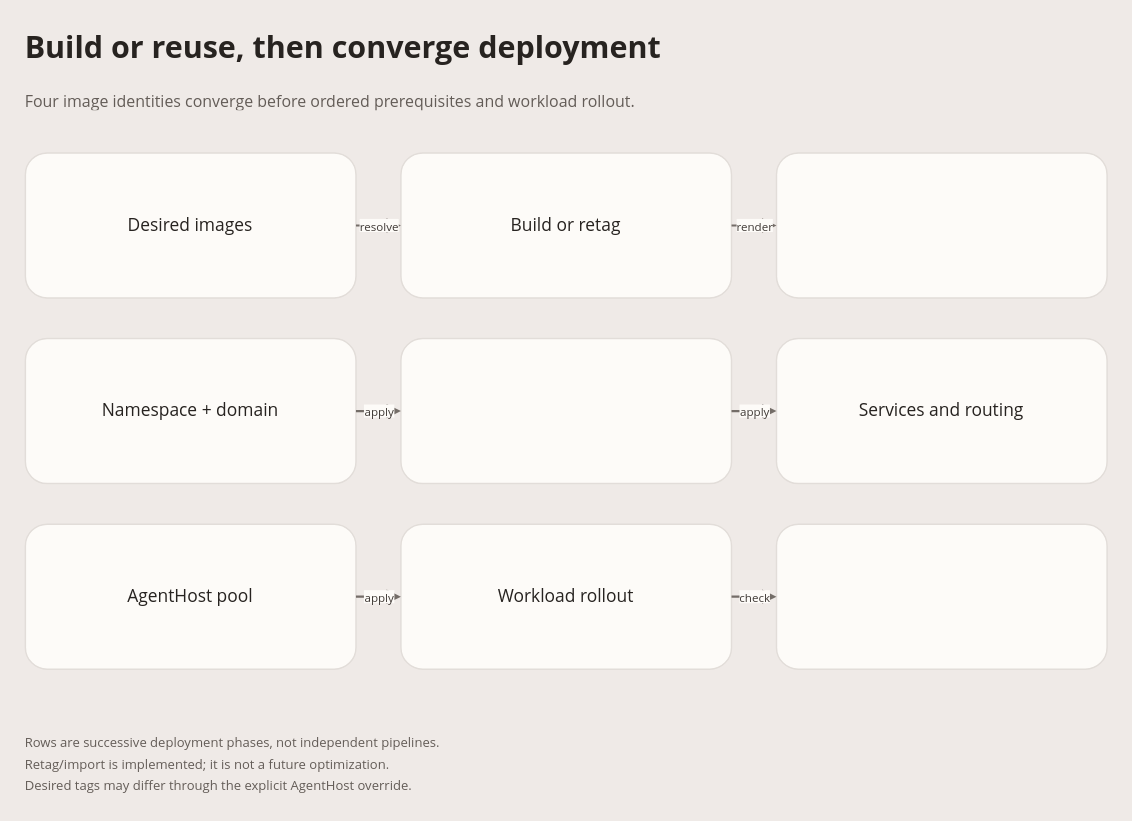
Image size: 1132x821. Some labels were removed from this diagram. The shapes that lost their labels are listed below. From the top down, each one's centre as x and y in pixels, then its label:
At (941,225): "Concrete manifests".
At (565,410): "Identity and storage".
At (941,596): "Verify externally".
